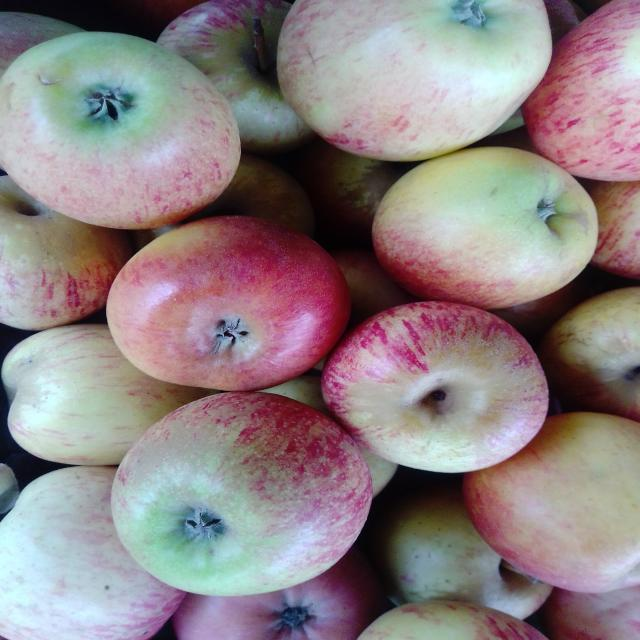Fresh Apple: (0, 28, 235, 245), (138, 393, 355, 590), (94, 220, 344, 385), (362, 145, 588, 307), (355, 307, 555, 483)
